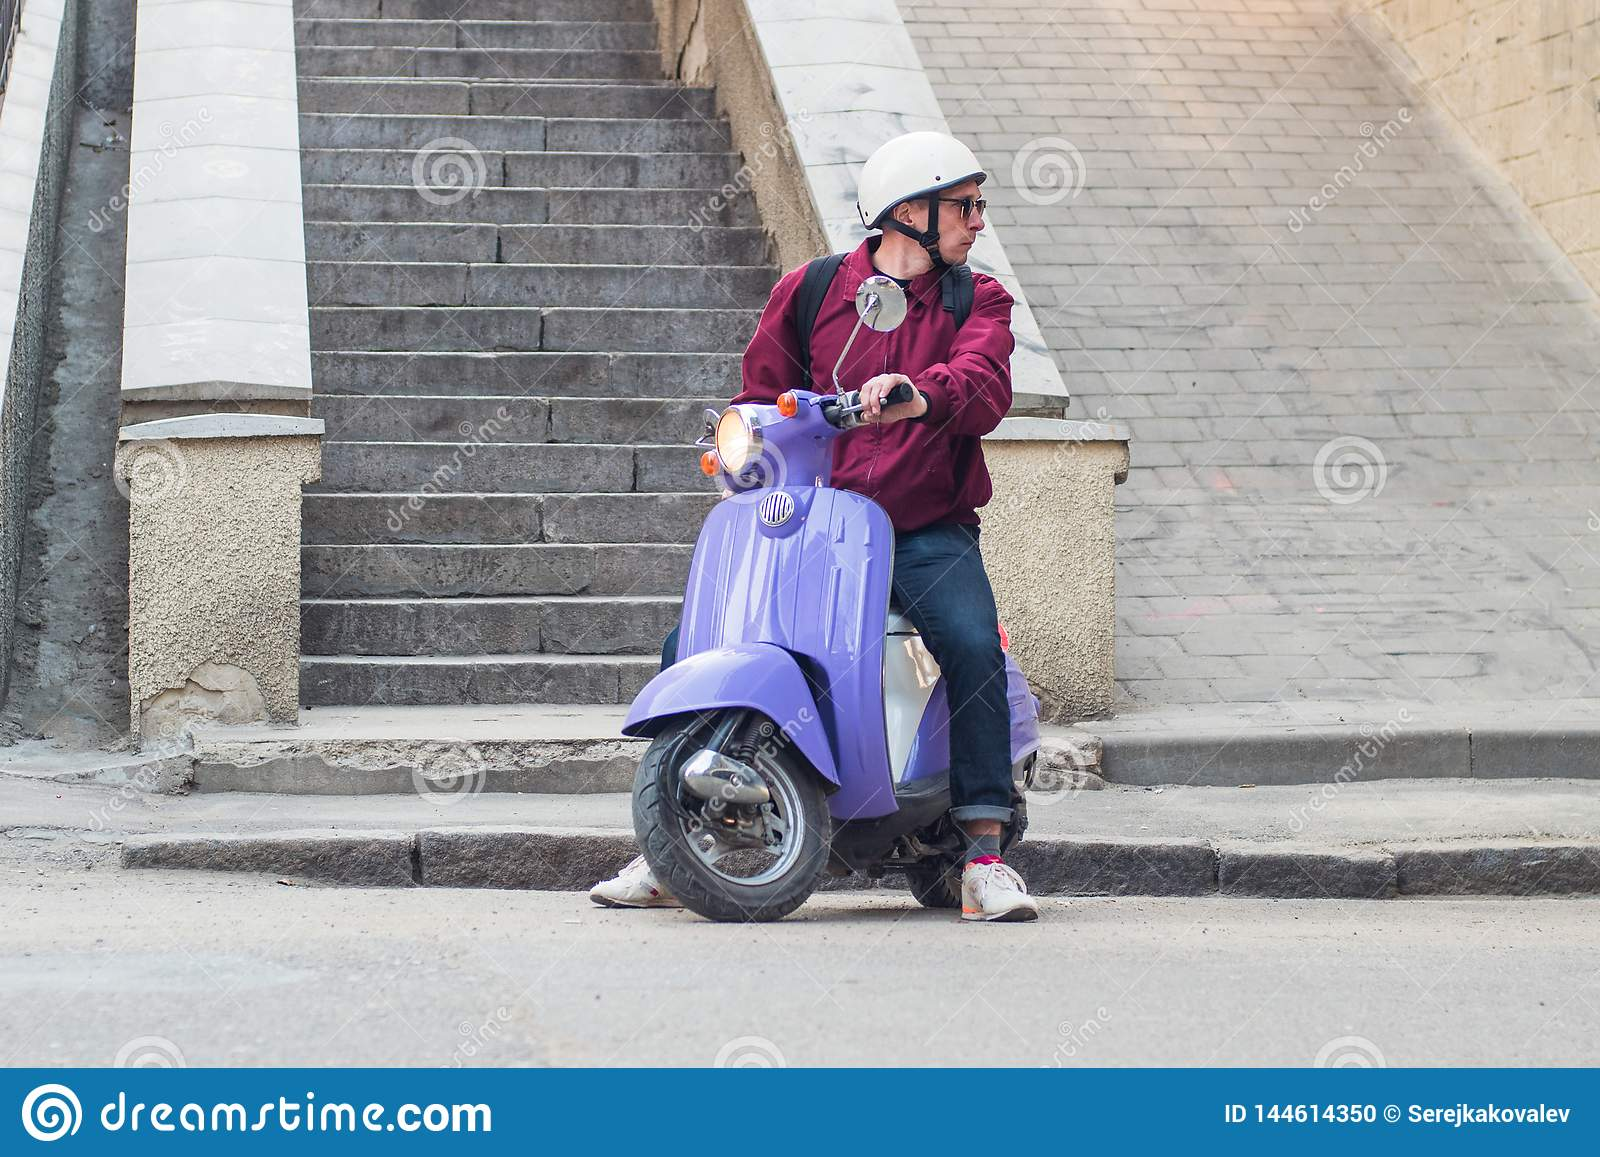helmet: (851, 132, 988, 200)
